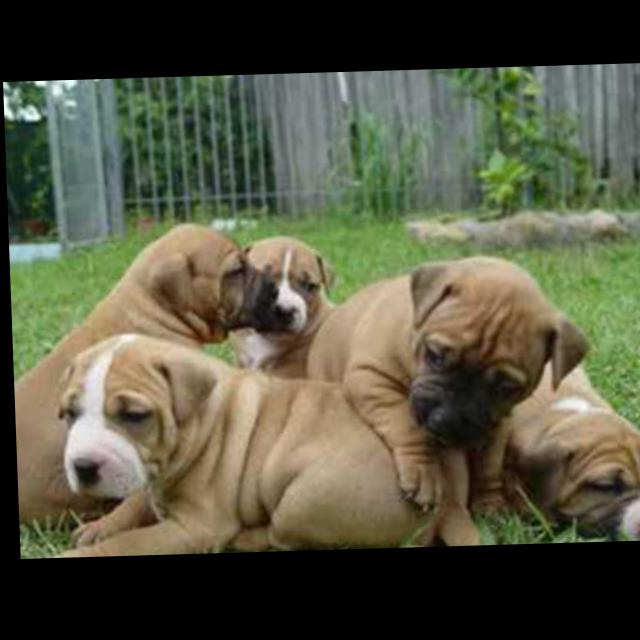am_pit_bull_terrier: (31, 327, 503, 560), (8, 221, 283, 537), (301, 256, 592, 524), (498, 358, 640, 548), (226, 237, 340, 384)
